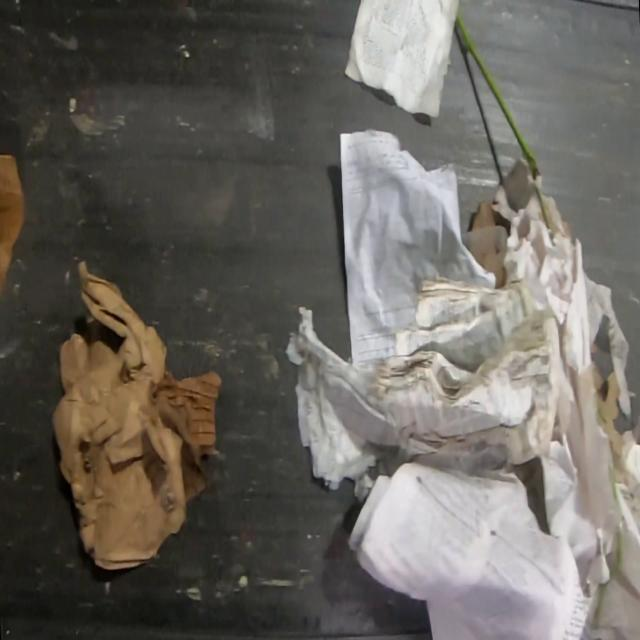cardboard: (49, 259, 226, 571), (592, 360, 623, 463)
